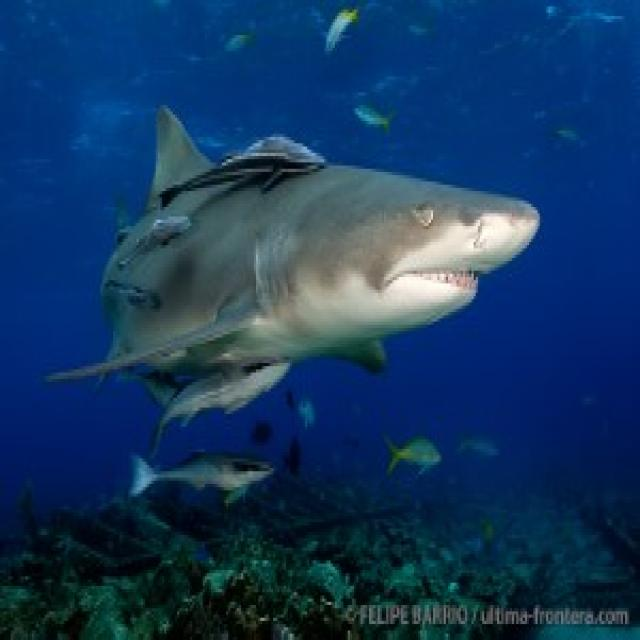Shark: (38, 102, 544, 353)
